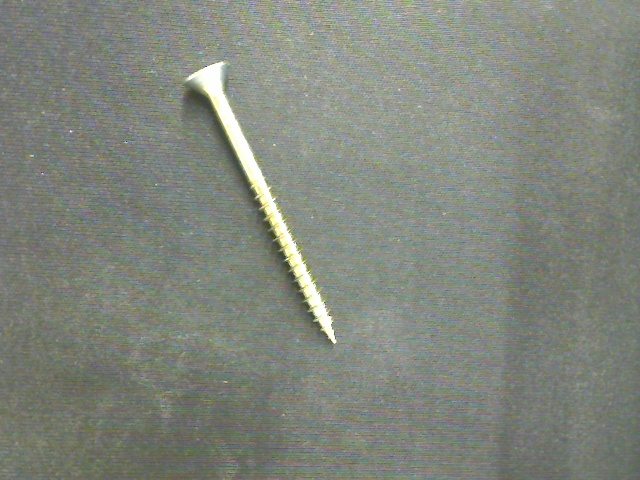screw6: (185, 60, 337, 343)
